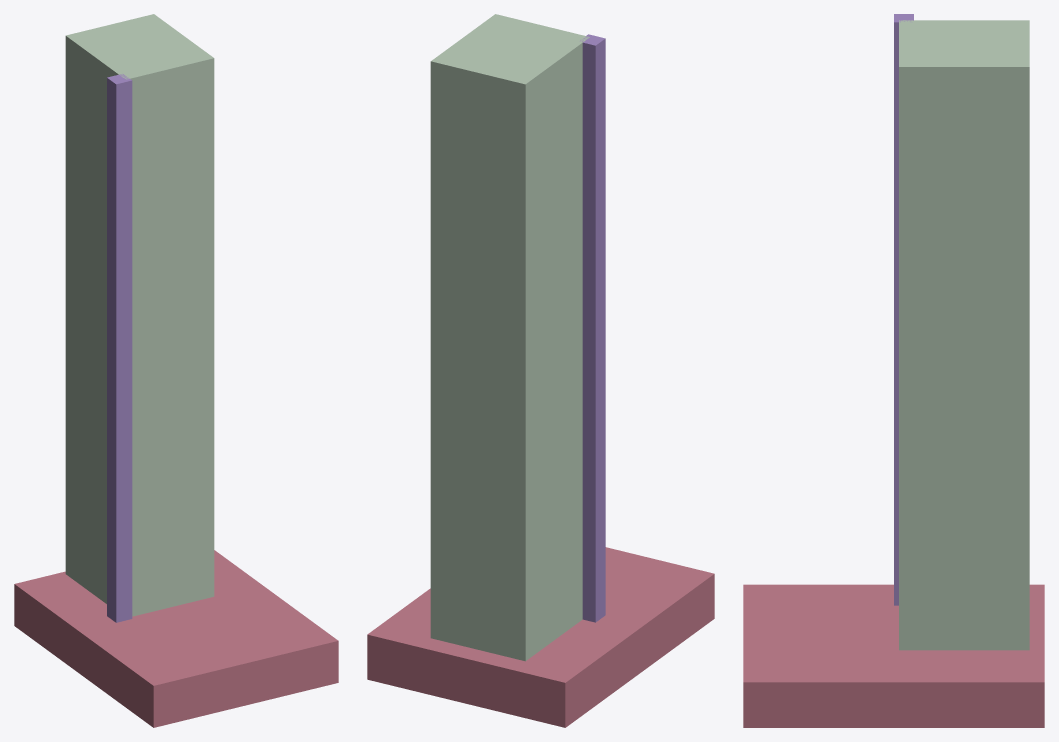
File: 199511_pred.glb
3 views of the same model, side by side, from view 1: azimuth 30°, elevation 25°; view 2: azimuth 150°, elevation 25°; view 3: azimuth 270°, elevation 25° (orthographic). The views are drawn at different scales.
Parts seen in each view (by area): view 1: world; view 2: world; view 3: world.
Boxes of the visible parts, x1,y1,x2,y2 form: world: (14,14,338,727); world: (367,14,714,727); world: (743,14,1044,727).
Size of the model in its own units: 2.3 by 6.95 by 3.
